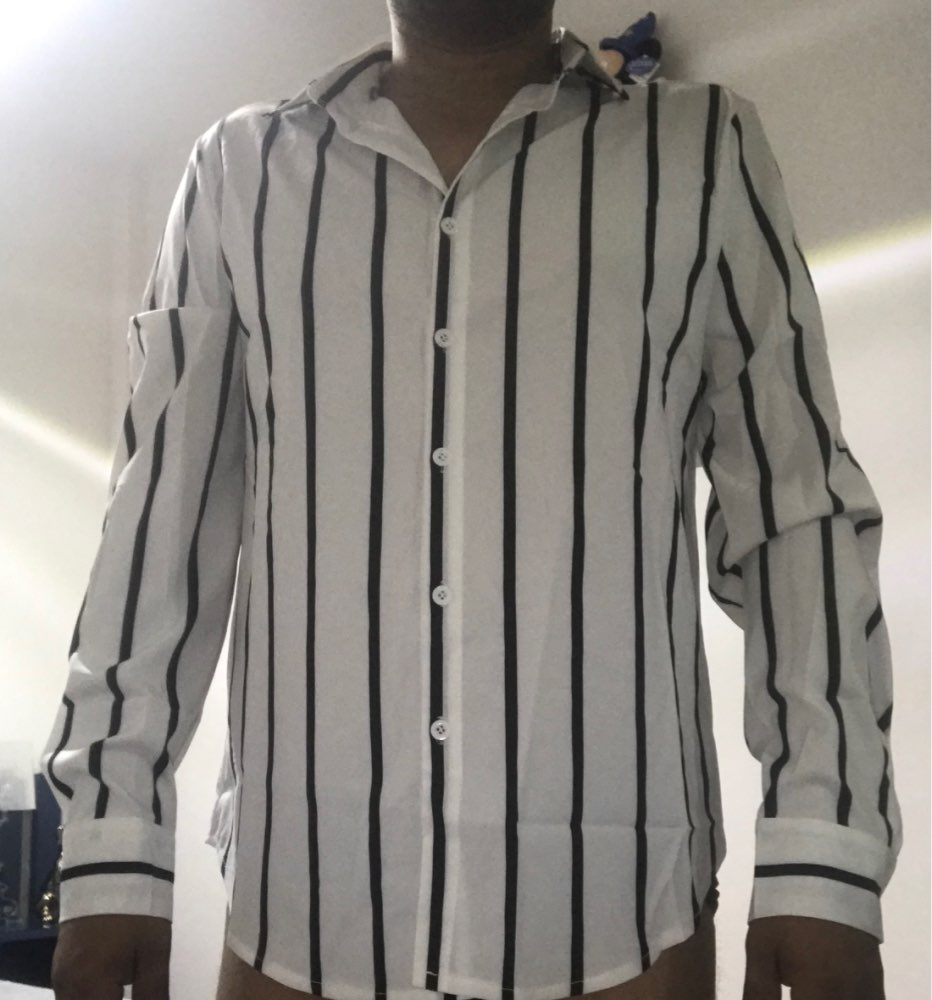shirts: (45, 53, 912, 979)
